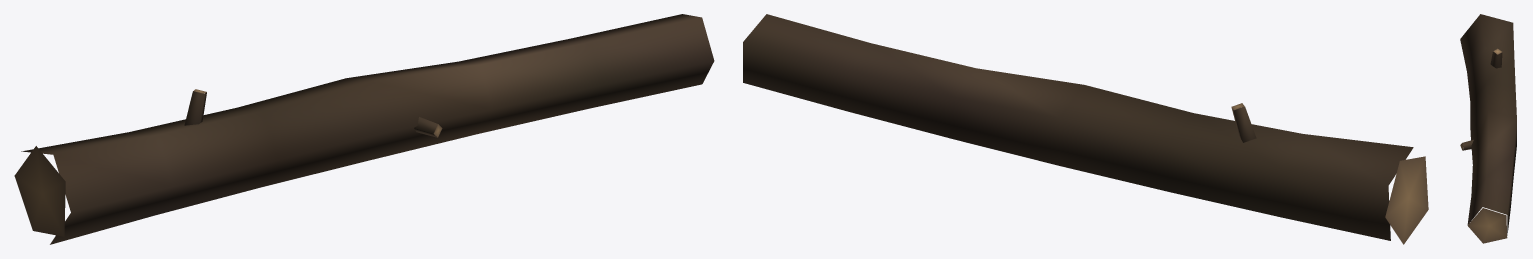
Rendered from log-fresh-a.lod2.glb.
3 views of the same model, side by side, from view 1: azimuth 30°, elevation 25°; view 2: azimuth 150°, elevation 25°; view 3: azimuth 270°, elevation 25° (orthographic). The views are drawn at different scales.
Bounding box in the file's own units: 4.09 × 0.6207 × 0.5577.
